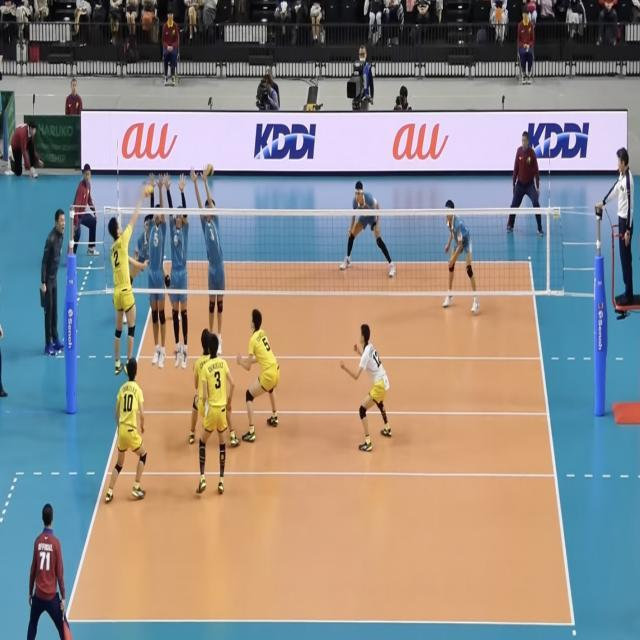spike: (103, 180, 154, 382)
